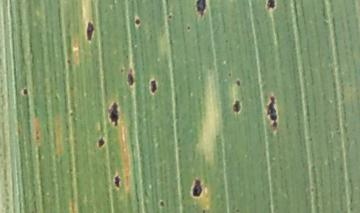tarspot: (267, 95, 278, 129), (108, 102, 120, 126), (192, 178, 202, 196), (86, 22, 95, 41), (126, 68, 135, 86), (196, 1, 206, 17), (112, 173, 121, 189), (232, 98, 241, 113), (149, 78, 157, 93), (96, 135, 105, 148), (266, 1, 277, 9), (22, 86, 28, 97), (133, 17, 141, 25), (158, 198, 165, 207), (68, 108, 74, 117), (235, 78, 241, 87), (66, 57, 72, 65), (119, 66, 125, 74), (35, 133, 41, 141), (226, 70, 232, 78), (167, 12, 173, 19), (310, 185, 315, 193), (186, 23, 191, 30), (235, 207, 240, 213), (201, 208, 206, 213)
